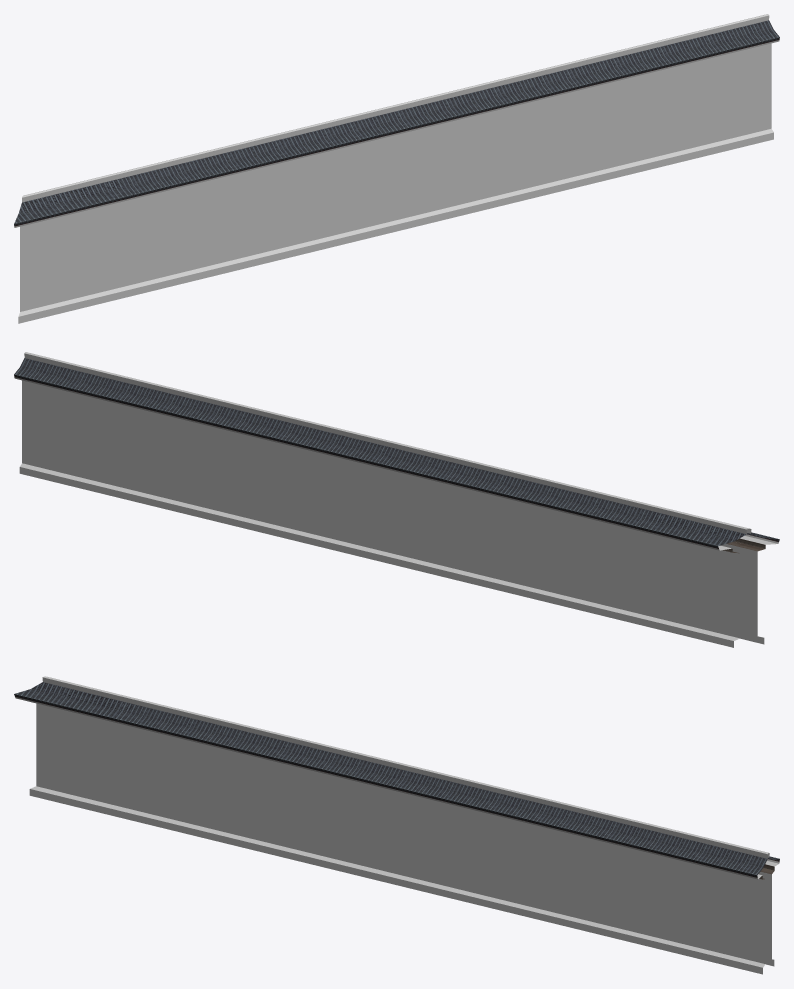
File: JiaYeSi_WeiQiang_2.FBX
3 renders of one model, top to bottom at view 1: azimuth 30°, elevation 25°; view 2: azimuth 150°, elevation 25°; view 3: azimuth 330°, elevation 25°, orthographic. The views are drawn at different scales.
Parts seen in each view (by area): view 1: Object01, JiaYeSi_WeiQiang_5b; view 2: Object01, JiaYeSi_WeiQiang_5b; view 3: Object01, JiaYeSi_WeiQiang_5b.
Boxes of the visible parts, x1=… form: Object01: x1=14, y1=14, x2=779, y2=323; JiaYeSi_WeiQiang_5b: x1=14, y1=20, x2=779, y2=226; Object01: x1=14, y1=352, x2=778, y2=647; JiaYeSi_WeiQiang_5b: x1=14, y1=358, x2=779, y2=553; Object01: x1=15, y1=676, x2=779, y2=974; JiaYeSi_WeiQiang_5b: x1=14, y1=682, x2=779, y2=879.
Bounding box in the file's own units: 4718 × 713 × 249.
